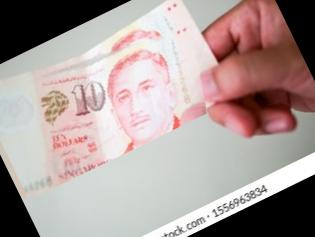10SingaporeDollar: (0, 0, 229, 200)
